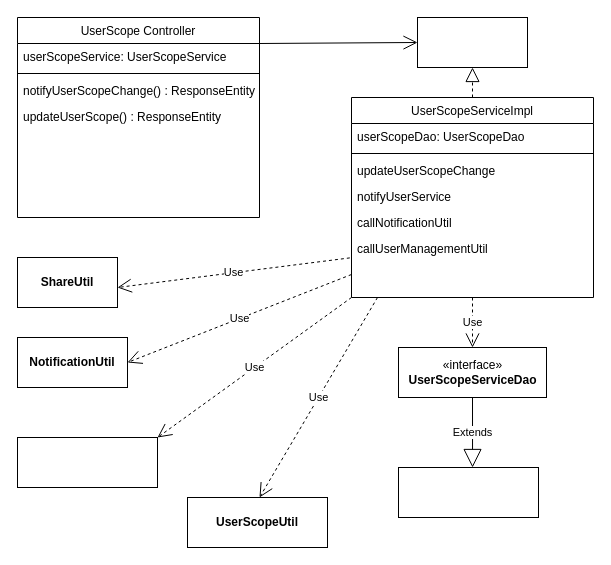
Image size: 611x565. Some labels were removed from this diagram. The centre of each missing label's shape, as x and y in pixels:
"JPARepository" belongs at point (468, 492).
"UserManagementUtil" belongs at point (87, 462).
"«interface» UserScopeService" belongs at point (472, 42).
